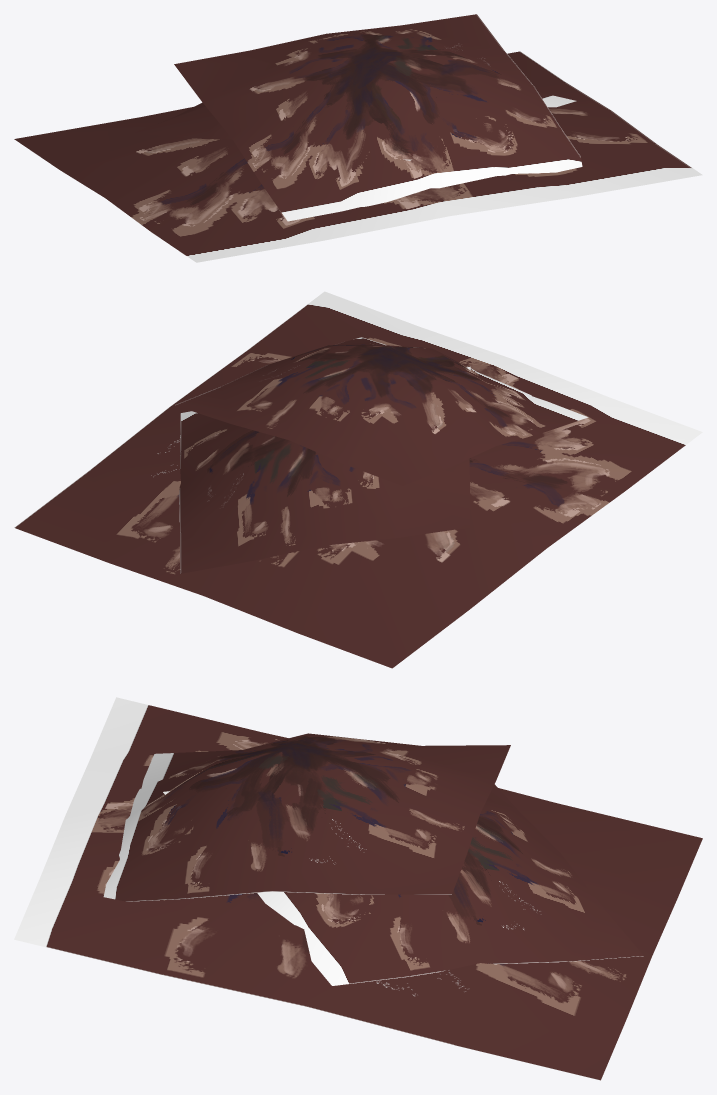
The model's file is coral1.fbx.
3 views of the same model, one above another, from view 1: azimuth 30°, elevation 25°; view 2: azimuth 150°, elevation 25°; view 3: azimuth 270°, elevation 25° (orthographic). The views are drawn at different scales.
Visible parts, largest first — view 1: coral1.002; view 2: coral1.002; view 3: coral1.002.
Part boxes in pixels (x1,y1,x2,y2): coral1.002: (14,14,702,262); coral1.002: (14,291,702,668); coral1.002: (14,697,702,1080).
Bounding box in the file's own units: 75.04 × 22.77 × 73.97.
